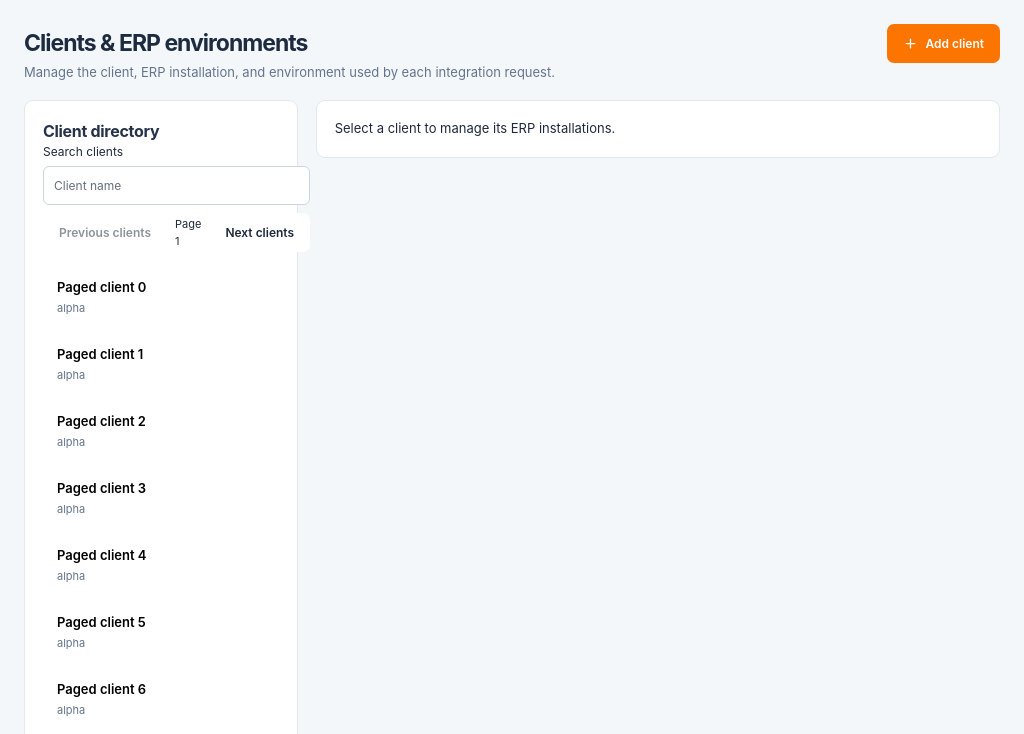
Test: client onboarding console › requests bounded client pages and clears selected client before a search
Click the button "Paged client 0 alpha": (161, 298) [43, 264, 279, 331]
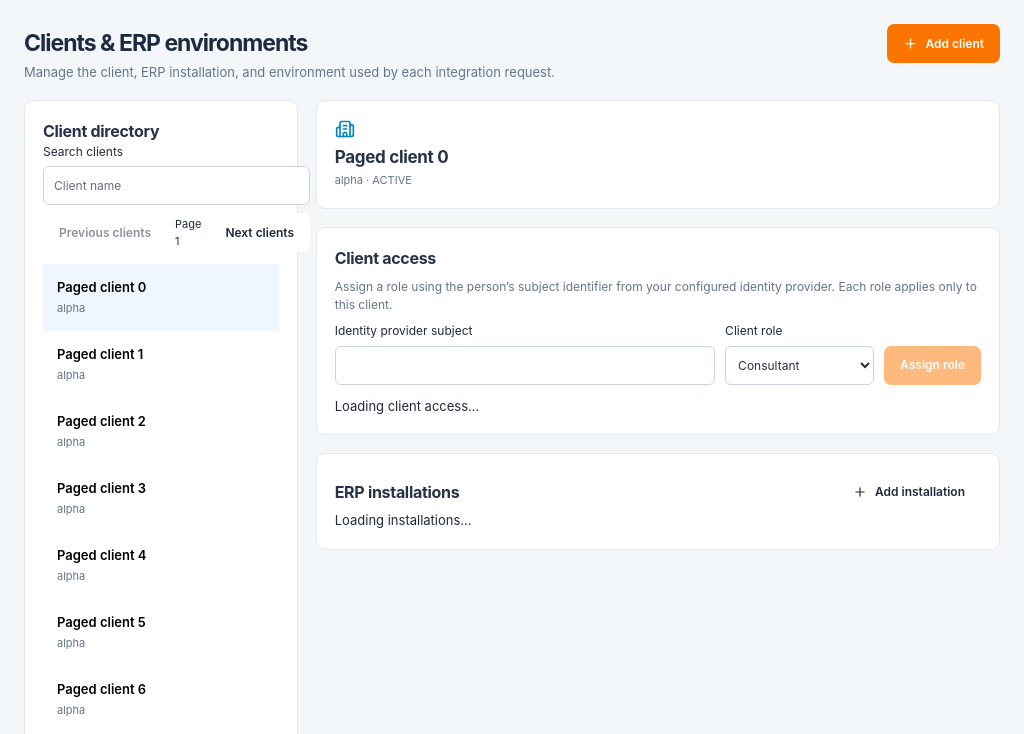
In the search field labelled "Search clients": (177, 186) [43, 166, 310, 205], type "Unknown client"
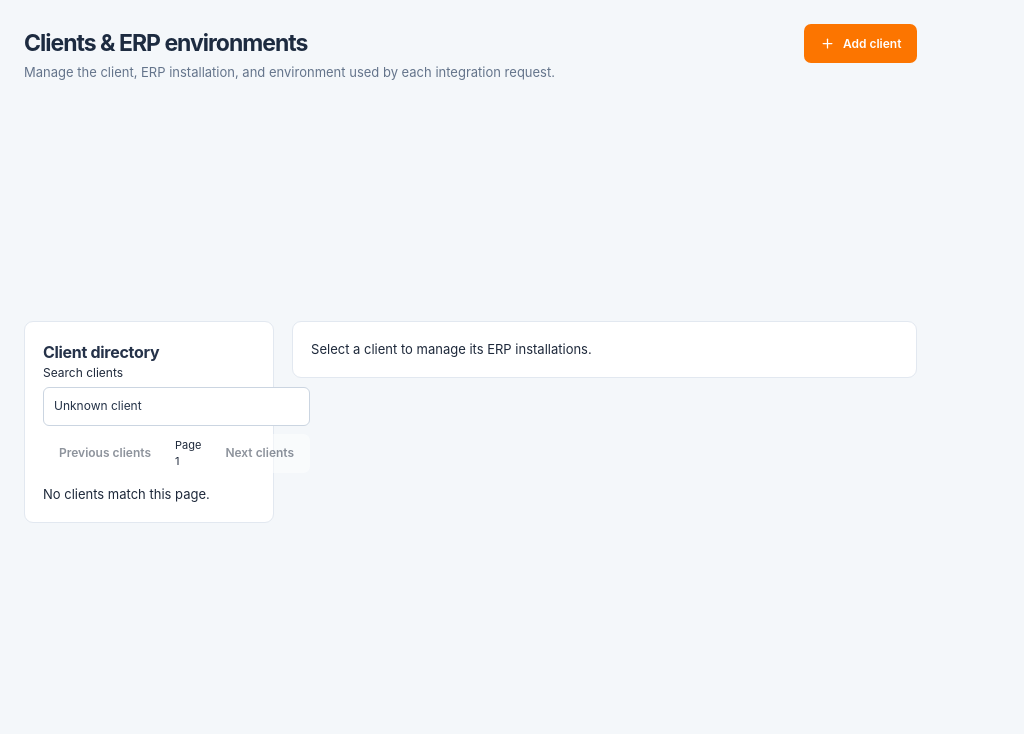
Check: the button "Paged client 0" is gone
Check: the text "No clients match this page." is shown, box [43, 486, 210, 502]
